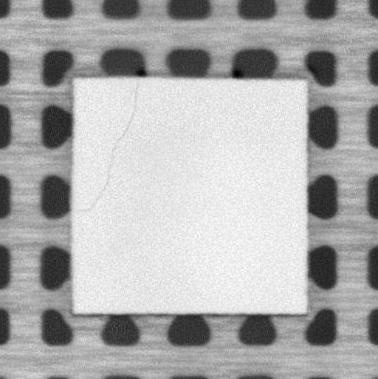DIE_CRACK: (84, 80, 139, 212)
